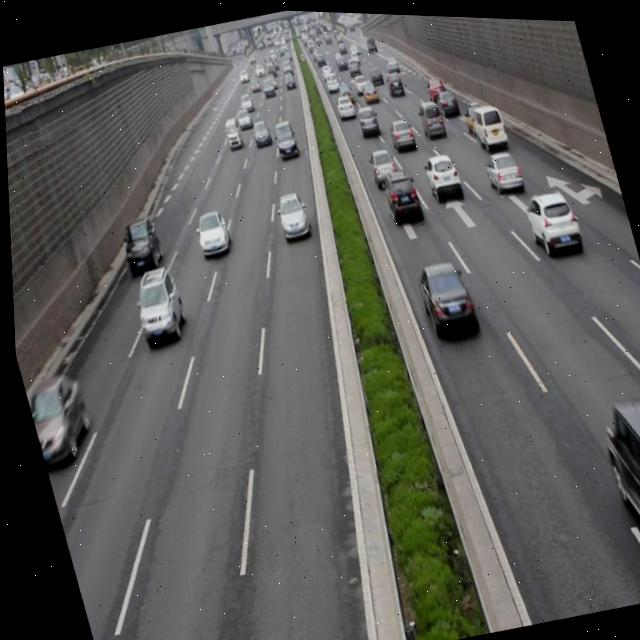car: (589, 384, 640, 569), (18, 368, 95, 469), (410, 252, 477, 339), (124, 261, 187, 345), (517, 181, 582, 258), (113, 213, 163, 275), (378, 163, 423, 225), (419, 147, 463, 202), (188, 204, 232, 257), (270, 187, 310, 241), (480, 143, 522, 191), (365, 142, 398, 187), (384, 112, 415, 152), (458, 96, 489, 134), (352, 99, 379, 136), (247, 114, 271, 148), (434, 83, 458, 116)
truck: (466, 96, 508, 147), (267, 115, 299, 161), (414, 94, 446, 139)
